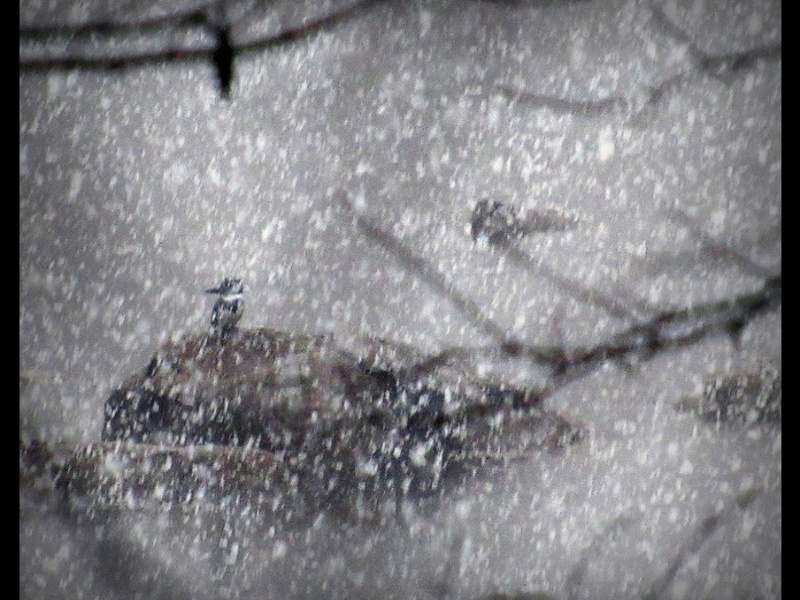kingfisher: (206, 273, 246, 349)
